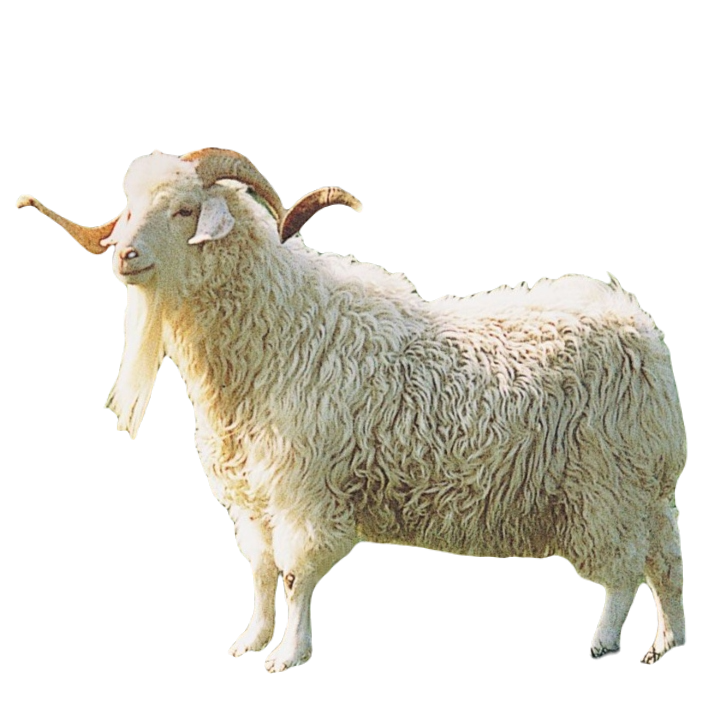Goat: (15, 144, 686, 669)
